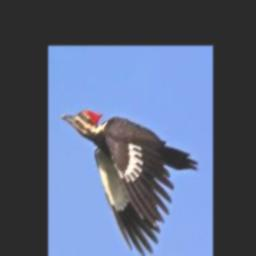Woodpecker: (61, 109, 199, 256)
